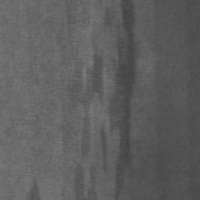inclusion: (73, 1, 136, 198)
